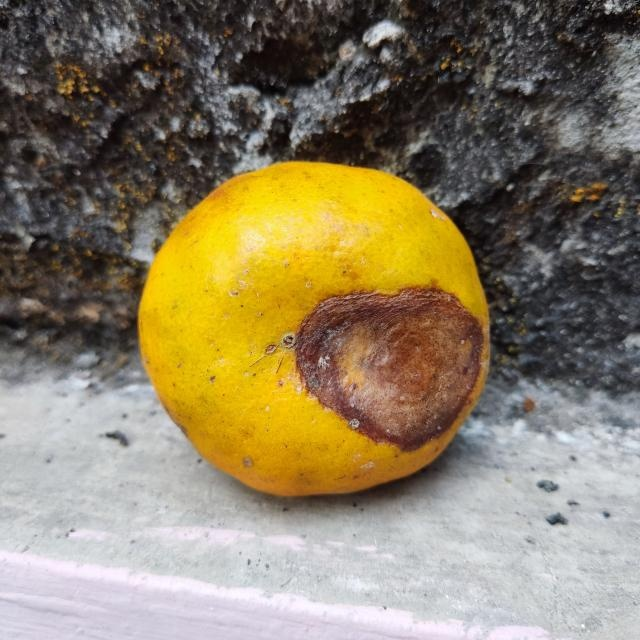agrume: (134, 157, 494, 501)
